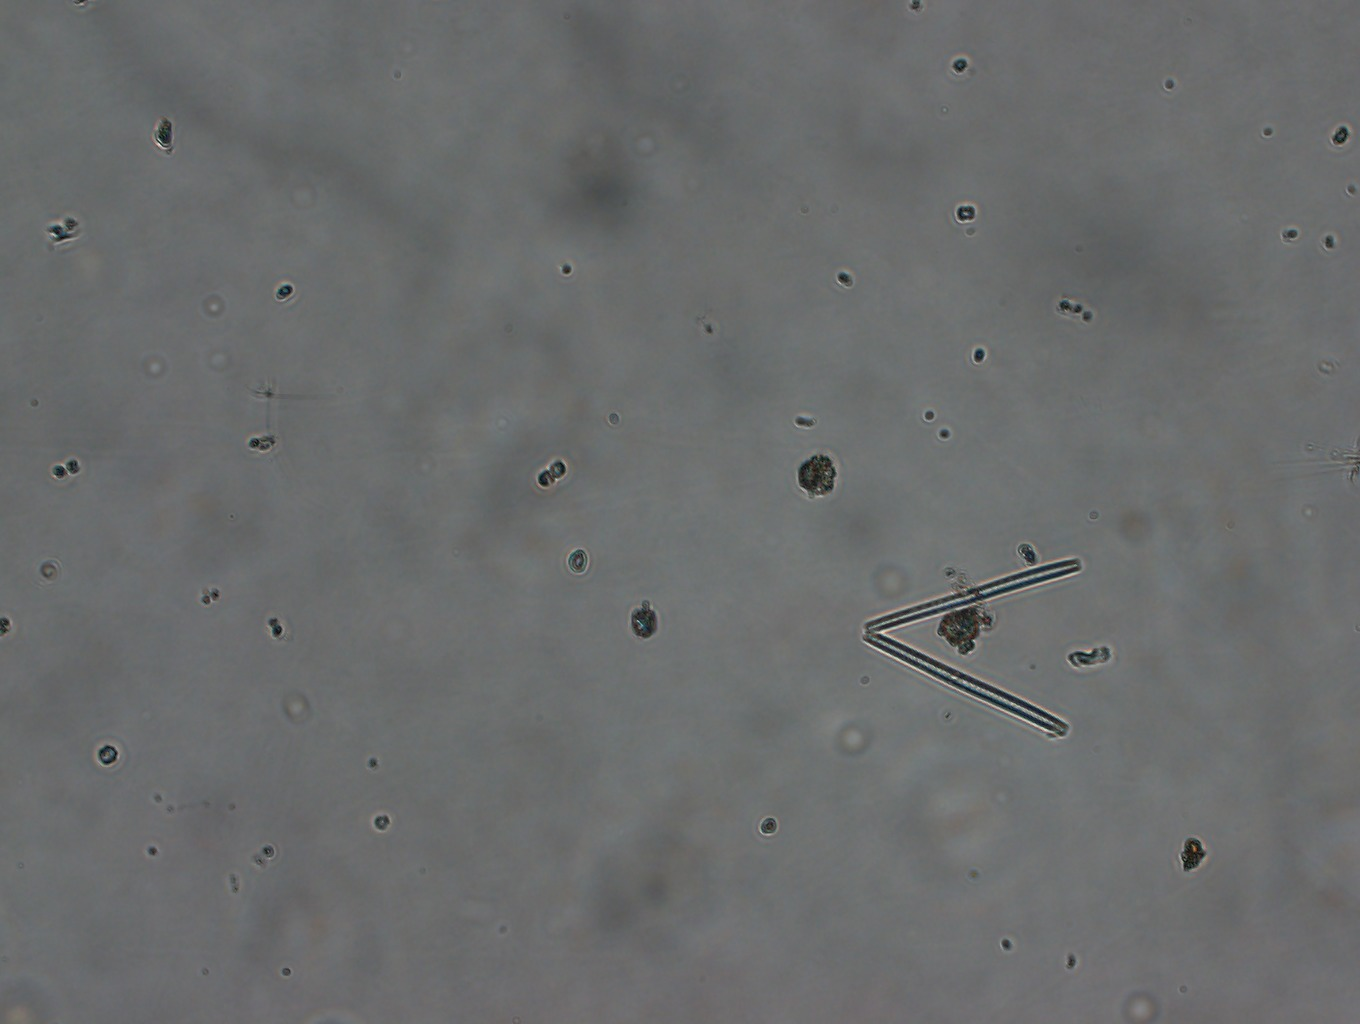thalassionema frauenfeldii: (851, 550, 1089, 764)
